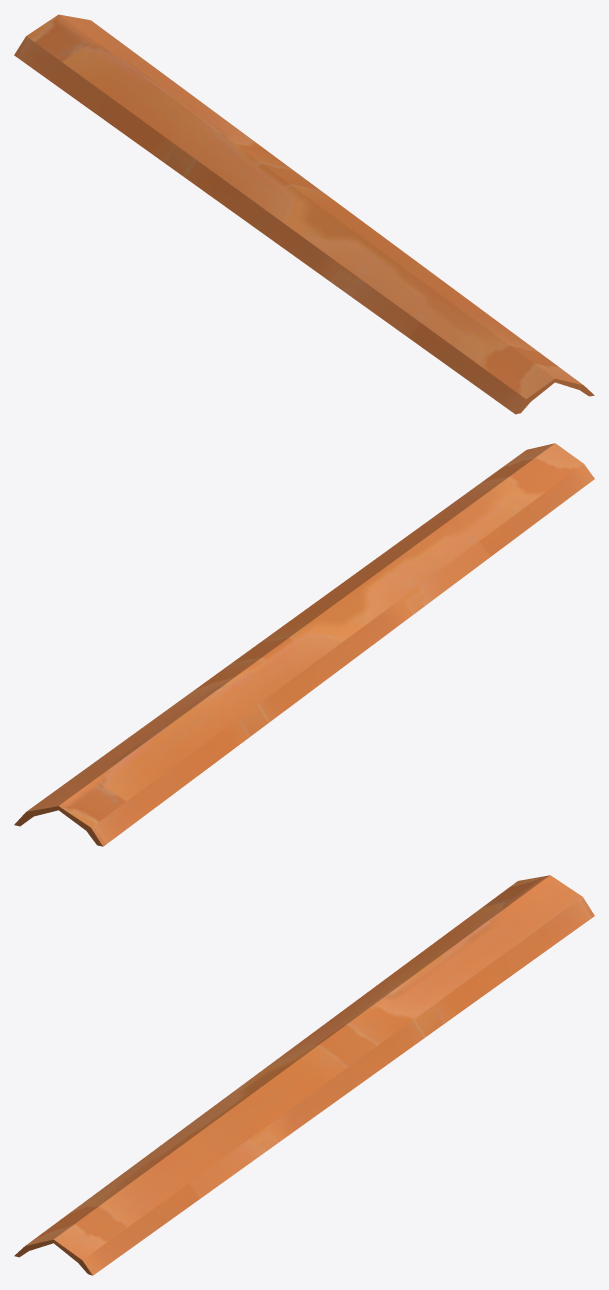
Rendered from Roof_Water.fbx.
The picture shows the model from 3 angles, top to bottom: view 1: azimuth 30°, elevation 25°; view 2: azimuth 150°, elevation 25°; view 3: azimuth 330°, elevation 25°; orthographic projection.
Visible parts, largest first — view 1: Roof_Water; view 2: Roof_Water; view 3: Roof_Water.
Boxes of the visible parts, x1,y1,x2,y2 form: Roof_Water: (14,14,594,414); Roof_Water: (14,443,594,846); Roof_Water: (14,875,594,1275).
Bounding box in the file's own units: 29.53 × 9.46 × 285.
